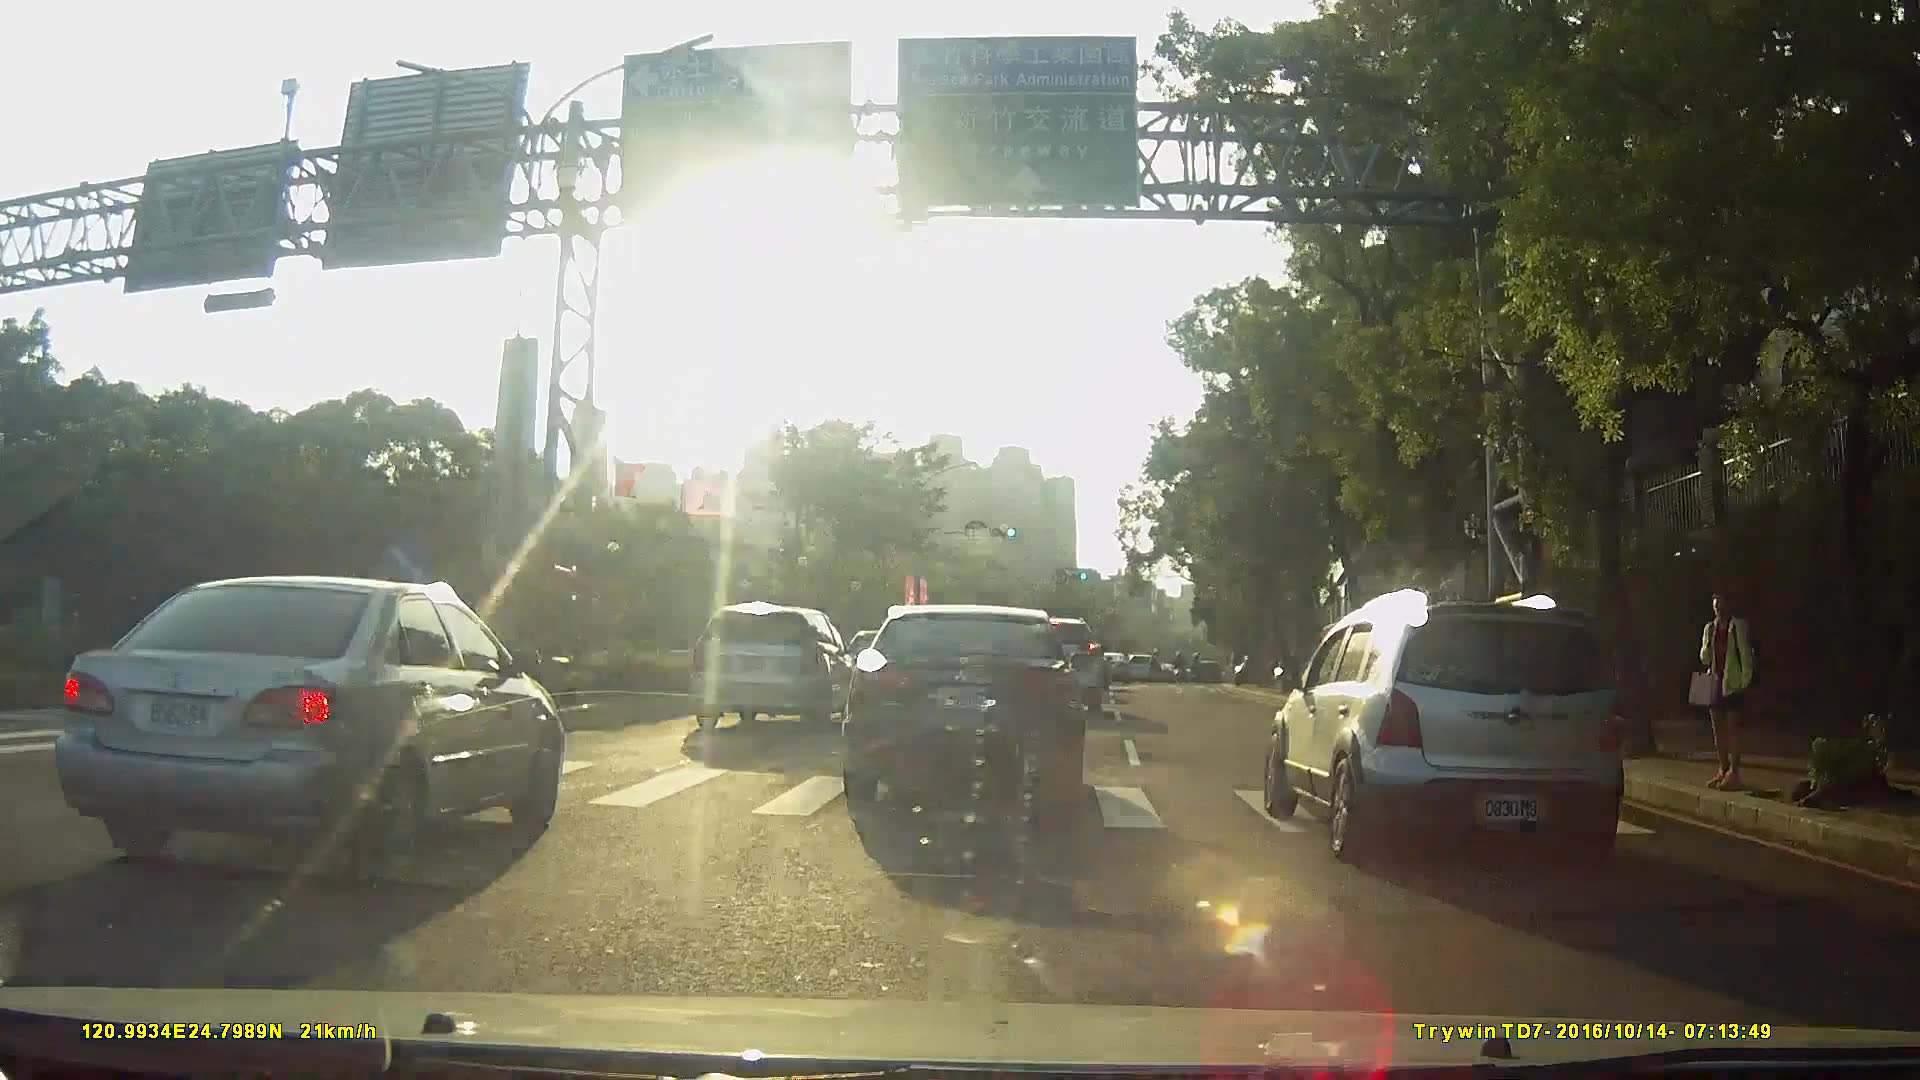pedestrian: (1688, 585, 1759, 795)
vehicle: (25, 565, 572, 884), (1246, 578, 1651, 870), (847, 593, 1107, 806), (678, 600, 856, 730), (1093, 646, 1127, 678), (1119, 646, 1153, 676)
